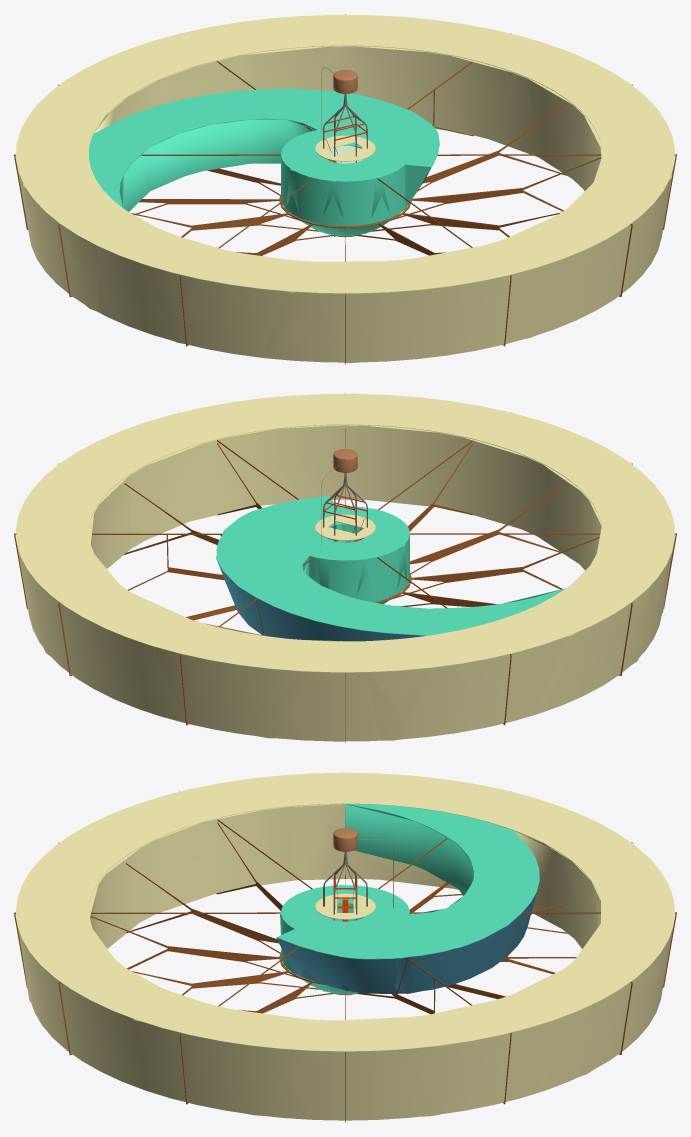
The model's file is Carousel.glb.
3 renders of one model, top to bottom at view 1: azimuth 30°, elevation 25°; view 2: azimuth 150°, elevation 25°; view 3: azimuth 270°, elevation 25°, orthographic.
Visible parts, largest first — view 1: Roof, Carousel, Carousel.002, Carousel.001, Carousel_Drive; view 2: Roof, Carousel, Carousel.002, Carousel.001, Carousel_Drive; view 3: Roof, Carousel, Carousel.002, Carousel.001, Carousel_Drive.
Part boxes in pixels (left/top/right/bottom): Roof: left=16, top=14, right=674, bottom=293; Carousel: left=14, top=14, right=676, bottom=364; Carousel.002: left=23, top=46, right=671, bottom=363; Carousel.001: left=14, top=14, right=665, bottom=363; Carousel_Drive: left=321, top=67, right=357, bottom=130; Roof: left=16, top=393, right=674, bottom=672; Carousel: left=14, top=393, right=676, bottom=743; Carousel.002: left=27, top=425, right=671, bottom=740; Carousel.001: left=25, top=425, right=666, bottom=742; Carousel_Drive: left=321, top=449, right=357, bottom=546; Roof: left=15, top=772, right=675, bottom=1051; Carousel: left=14, top=791, right=676, bottom=1122; Carousel.002: left=22, top=804, right=673, bottom=1116; Carousel.001: left=25, top=804, right=676, bottom=1121; Carousel_Drive: left=333, top=828, right=393, bottom=890.
Size of what is drawn, in the model's own units: 32.9 by 8.5 by 32.9.
